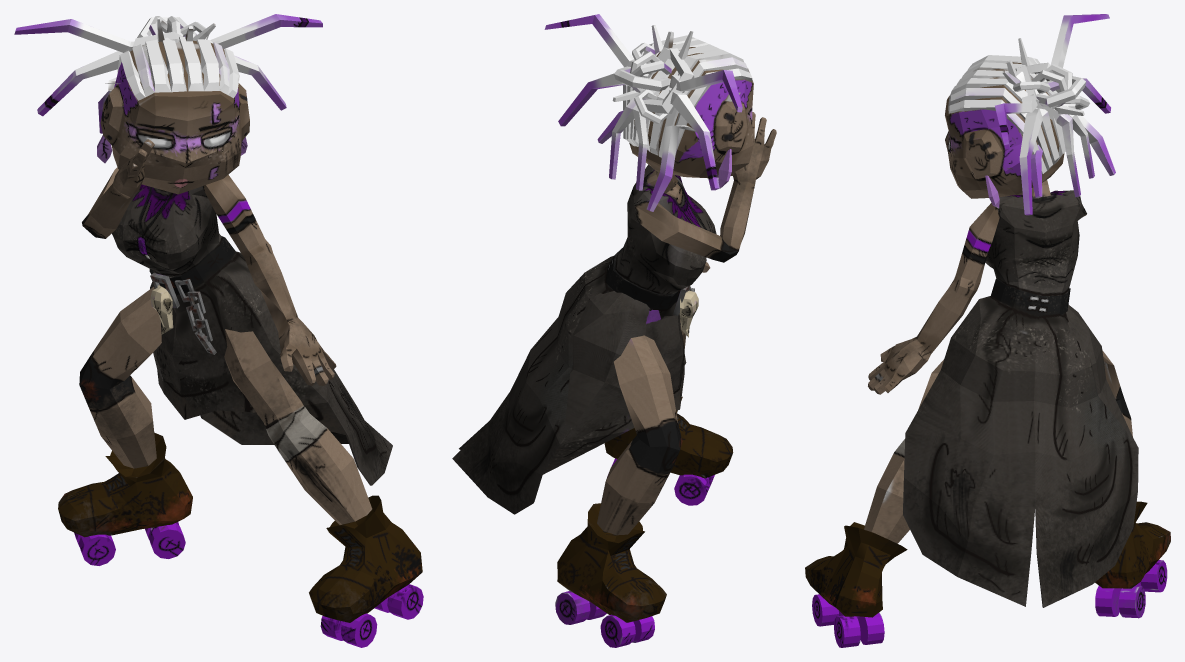
File: bruja_000054.obj
3 views of the same model, side by side, from view 1: azimuth 30°, elevation 25°; view 2: azimuth 150°, elevation 25°; view 3: azimuth 270°, elevation 25° (orthographic). The views are drawn at different scales.
Parts seen in each view (by area): view 1: Bruja_Plane.001; view 2: Bruja_Plane.001; view 3: Bruja_Plane.001.
Part boxes in pixels (x1,y1,x2,y2): Bruja_Plane.001: [14, 14, 423, 647]; Bruja_Plane.001: [452, 14, 776, 647]; Bruja_Plane.001: [805, 14, 1170, 647].
Bounding box in the file's own units: 9.24 × 15.43 × 9.25.
